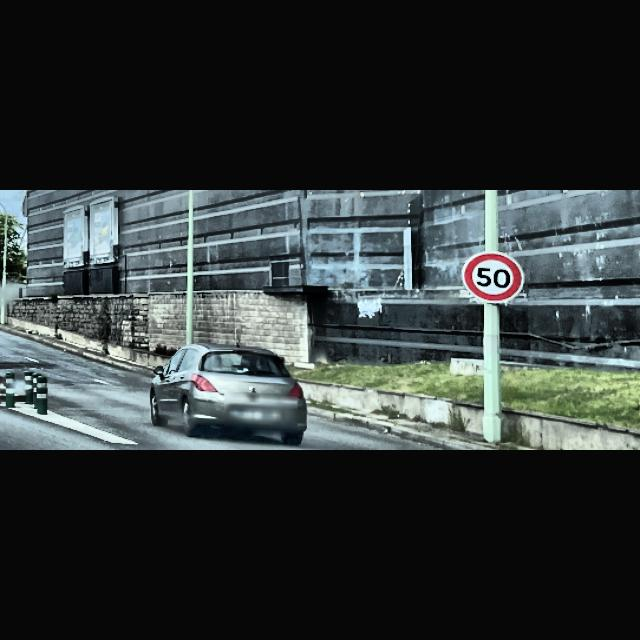speed_50: (462, 254, 524, 302)
